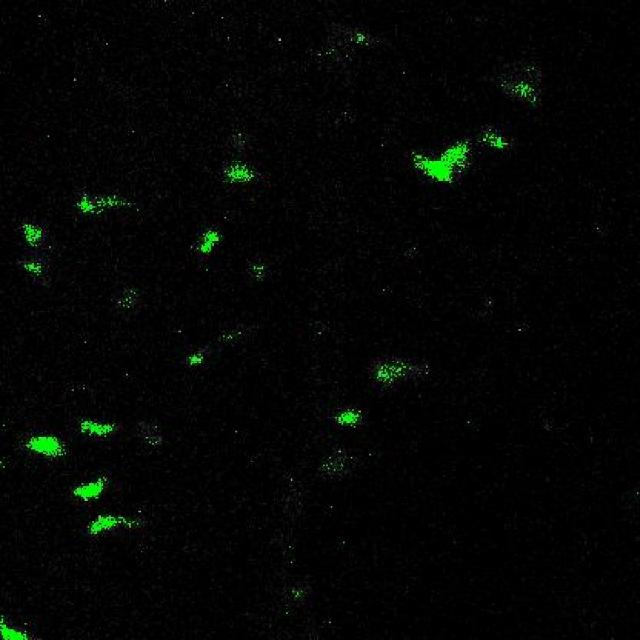Cell: (416, 154, 458, 181), (25, 434, 64, 459), (75, 480, 103, 500), (22, 223, 42, 249), (92, 515, 113, 534), (227, 164, 254, 178), (77, 198, 95, 218), (341, 414, 362, 426)
